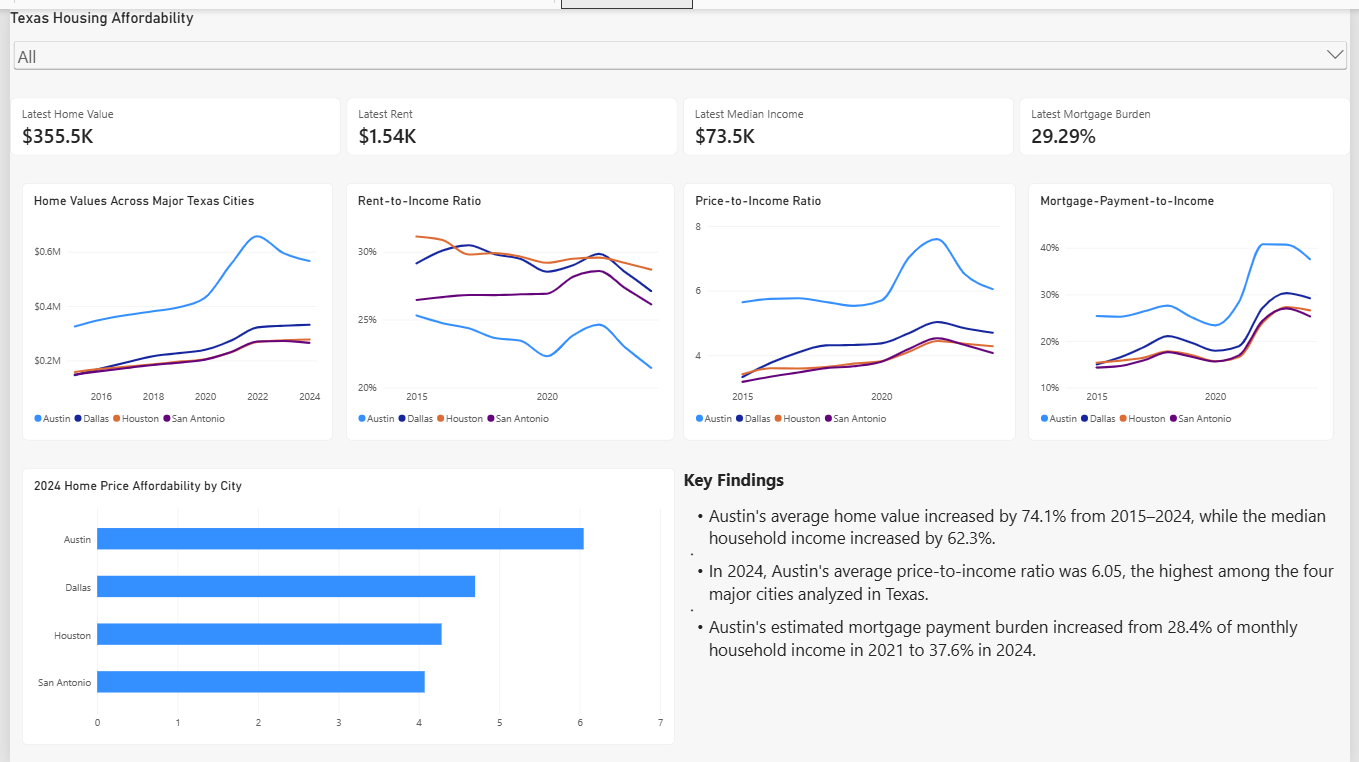

Layout of this report page (visuals, bound fields, positions):
{"tool":"powerbi","page":{"name":"House Affordability","canvas":[1920,1080],"ordinal":0},"visuals":[{"type":"lineChart","title":"Home Values Across Major Texas Cities","fields":{"Category":["affordability_clean.Date.Variation.Date Hierarchy.Year","affordability_clean.Date.Variation.Date Hierarchy.Quarter","affordability_clean.Date.Variation.Date Hierarchy.Month","affordability_clean.Date.Variation.Date Hierarchy.Day"],"Series":["affordability_clean.City"],"Y":["Avg(affordability_clean.HomeValue)"]},"box":[17,249.5,445,368.5],"z":0},{"type":"lineChart","title":"Mortgage-Payment-to-Income","fields":{"Category":["affordability_clean.Year"],"Series":["affordability_clean.City"],"Y":["Avg(affordability_clean.MortgagePaymentToIncome)"]},"box":[1459.9,249.5,436.5,368.5],"z":1000},{"type":"cardVisual","fields":{"Data":["affordability_clean.Latest Home Value","affordability_clean.Latest Rent","affordability_clean.Latest Median Income","affordability_clean.Latest Mortgage Burden"]},"box":[0,126.5,1920.7,83.5],"z":2000},{"type":"lineChart","title":"Rent-to-Income Ratio ","fields":{"Category":["affordability_clean.Year"],"Series":["affordability_clean.City"],"Y":["Avg(affordability_clean.RentToIncomeRatio)"]},"box":[481.9,249.5,470.6,368.5],"z":3000},{"type":"slicer","title":"Texas Housing Affordability","fields":{"Values":["affordability_clean.City"]},"box":[0,0,1920.7,126.5],"z":4000},{"type":"lineChart","title":"Price-to-Income Ratio","fields":{"Category":["affordability_clean.Year"],"Series":["affordability_clean.City"],"Y":["Avg(affordability_clean.PriceToIncomeRatio)"]},"box":[963.8,249.5,476.2,368.5],"z":5000},{"type":"clusteredBarChart","title":"2024 Home Price Affordability by City","fields":{"Category":["affordability_clean.City"],"Y":["Avg(affordability_clean.PriceToIncomeRatio)"]},"box":[17,657.6,935.4,396.9],"z":6000},{"type":"textbox","box":[963.9,658.5,932.9,396.1],"z":7000}]}

Visuals, with their boxes in screenshot pixels (x1, y1, x2, y2), scaled from the page's 1920x1080 canvas onto the 1359x762 screenshot:
"Home Values Across Major Texas Cities" lineChart: {"left": 12, "top": 176, "right": 327, "bottom": 436}
"Mortgage-Payment-to-Income" lineChart: {"left": 1033, "top": 176, "right": 1342, "bottom": 436}
cardVisual - affordability_clean.Latest Home Value x affordability_clean.Latest Rent: {"left": 0, "top": 89, "right": 1358, "bottom": 148}
"Rent-to-Income Ratio " lineChart: {"left": 341, "top": 176, "right": 674, "bottom": 436}
"Texas Housing Affordability" slicer: {"left": 0, "top": 0, "right": 1358, "bottom": 89}
"Price-to-Income Ratio" lineChart: {"left": 682, "top": 176, "right": 1019, "bottom": 436}
"2024 Home Price Affordability by City" clusteredBarChart: {"left": 12, "top": 464, "right": 674, "bottom": 744}
textbox: {"left": 682, "top": 465, "right": 1343, "bottom": 744}
